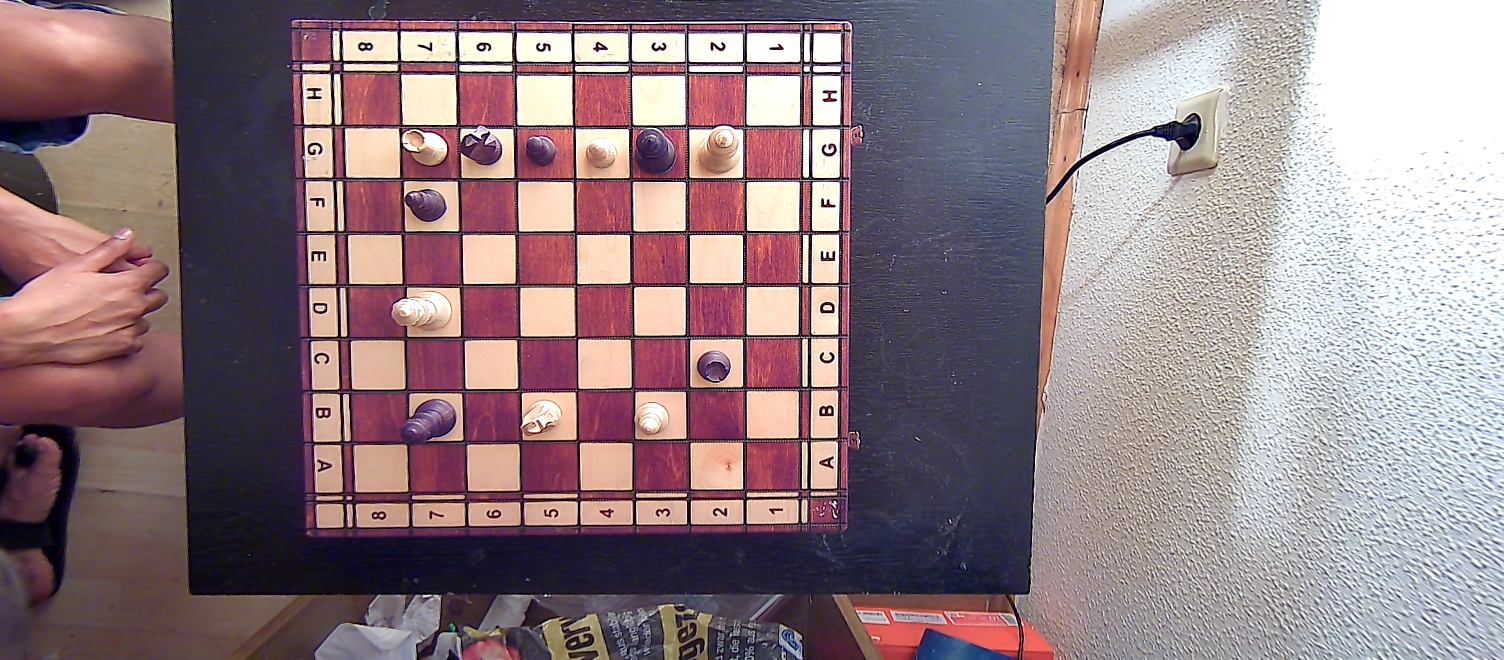black-bishop: (402, 182, 449, 229)
black-king: (632, 124, 679, 176)
black-knight: (455, 123, 505, 165)
black-pawn: (525, 130, 557, 170)
black-queen: (399, 396, 461, 447)
black-rook: (693, 349, 733, 385)
white-bishop: (631, 398, 670, 437)
white-king: (696, 123, 742, 181)
white-knight: (517, 398, 565, 437)
white-pawn: (583, 133, 618, 173)
white-queen: (389, 290, 455, 334)
white-rook: (401, 124, 448, 167)
